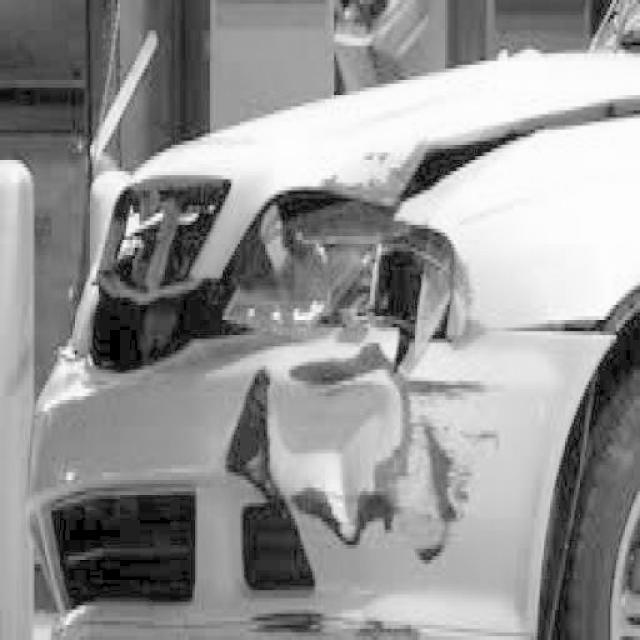car damage: (84, 96, 636, 640)
